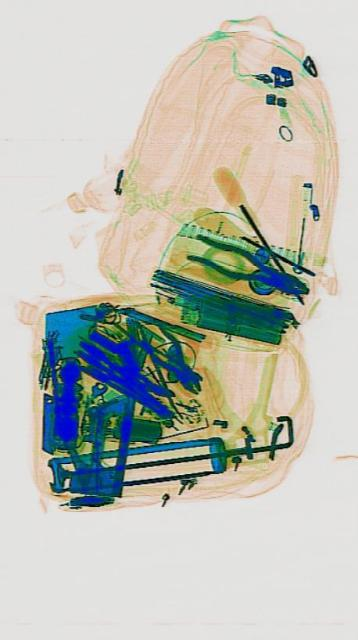Pliers: (184, 227, 309, 306), (141, 314, 205, 408)
